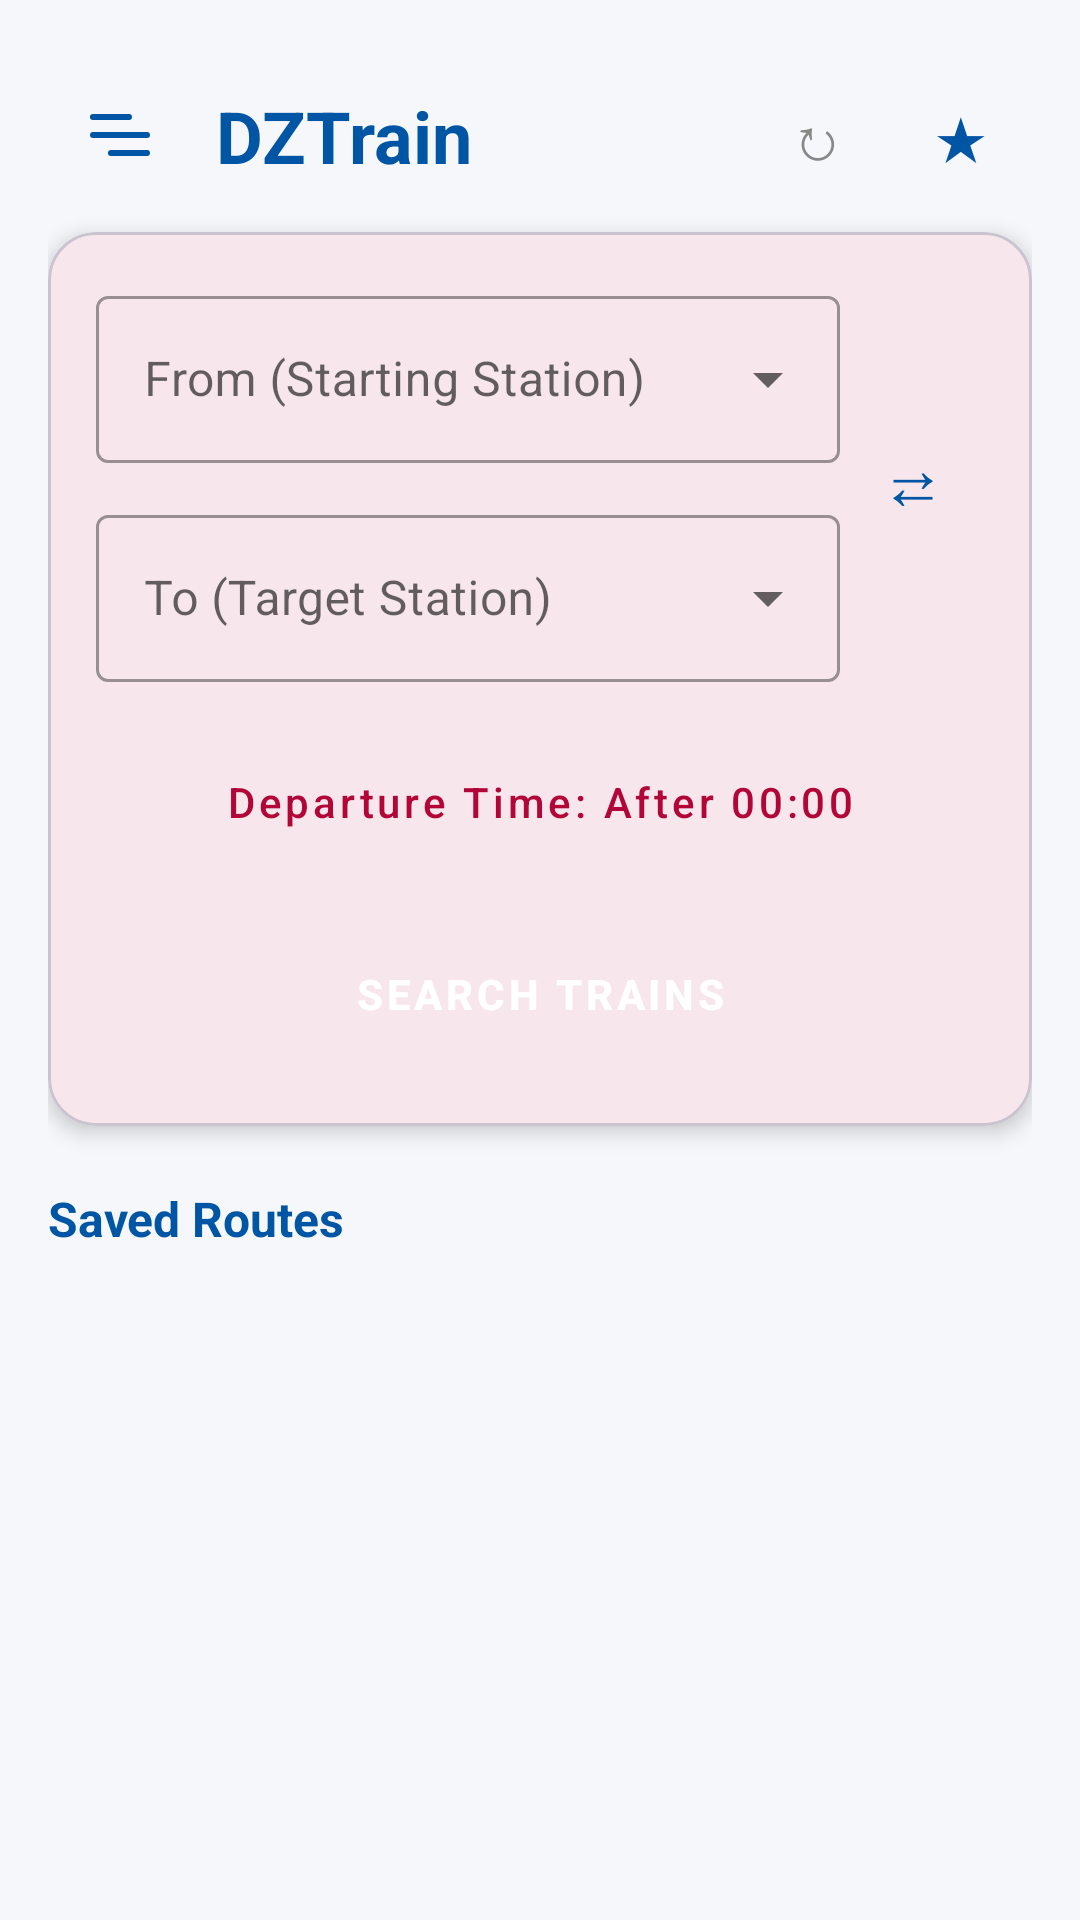

Named icons in this screenshot (1080×1920) and their centers, (x=x, y=y):
menu: (x=120, y=135)
